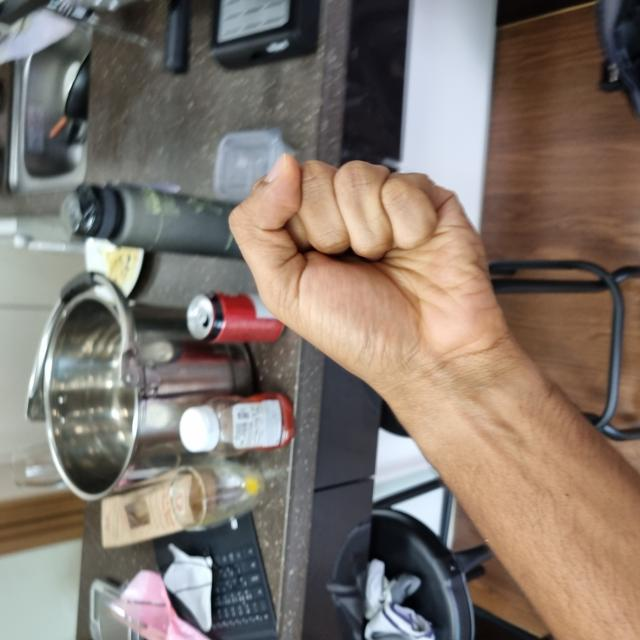Rock: (184, 231, 486, 563)
